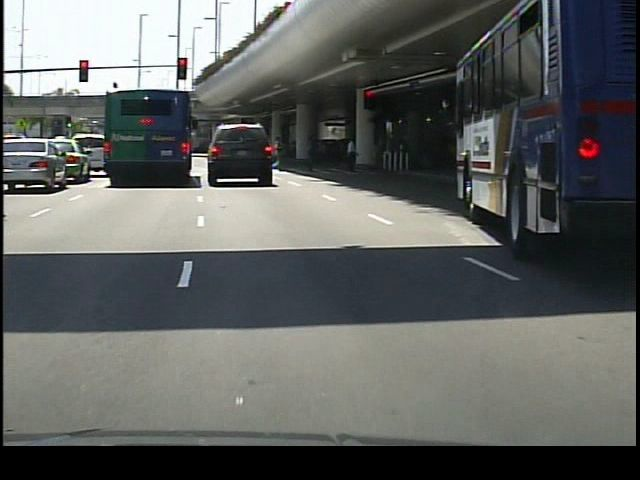person: (298, 132, 320, 176), (339, 134, 359, 172), (269, 133, 285, 174)
